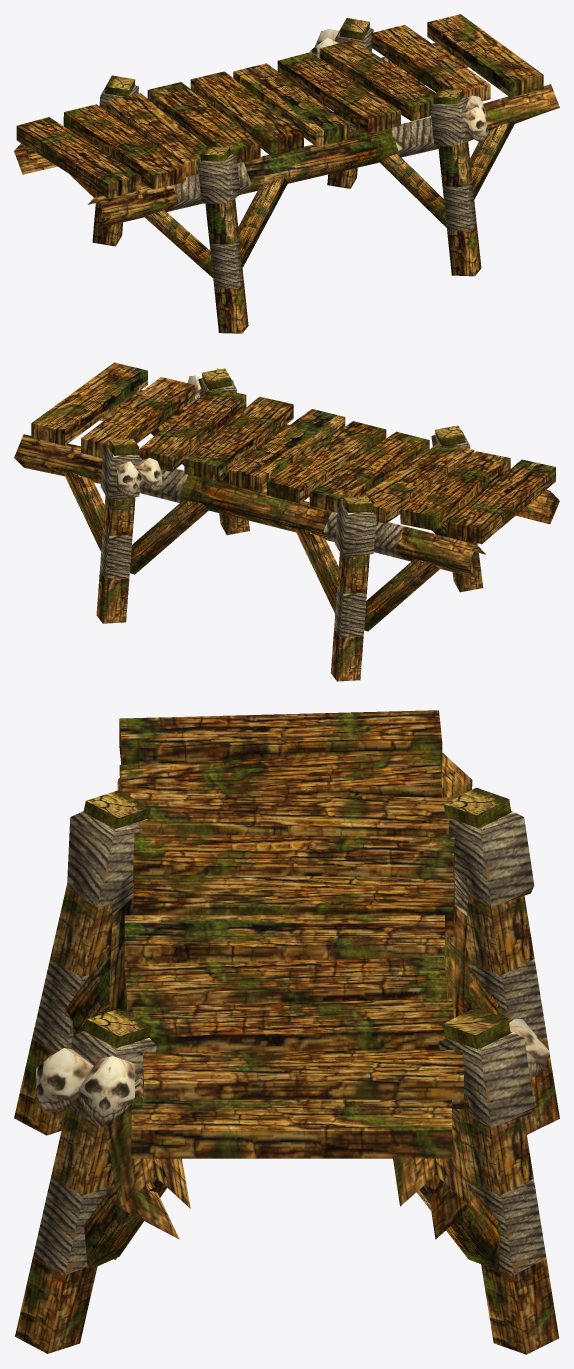
Rendered from straight.fbx.
3 renders of one model, top to bottom at view 1: azimuth 30°, elevation 25°; view 2: azimuth 150°, elevation 25°; view 3: azimuth 270°, elevation 25°, orthographic. The views are drawn at different scales.
Parts seen in each view (by area): view 1: plankStraightHorz_prefab; view 2: plankStraightHorz_prefab; view 3: plankStraightHorz_prefab.
Part boxes in pixels (x1,y1,x2,y2): plankStraightHorz_prefab: (14, 14, 559, 333); plankStraightHorz_prefab: (14, 362, 559, 681); plankStraightHorz_prefab: (14, 710, 559, 1354).
Size of the model in its own units: 6103 by 2134 by 3246.
